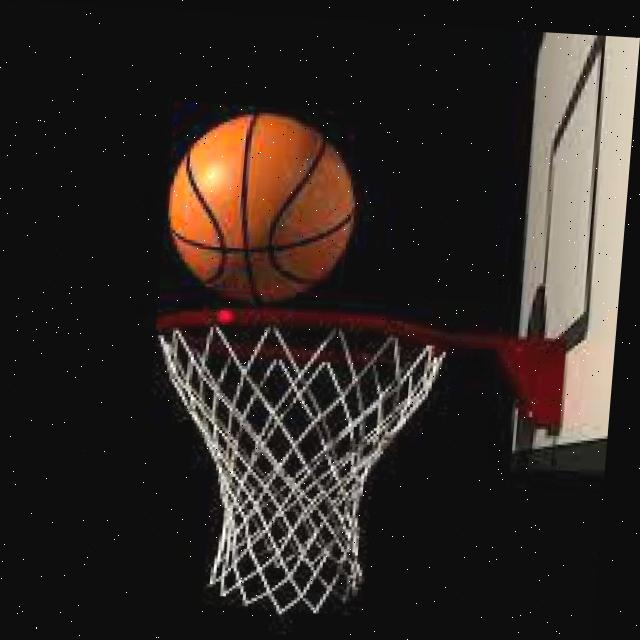basketball: (162, 108, 362, 307)
hoop: (131, 298, 464, 629)
